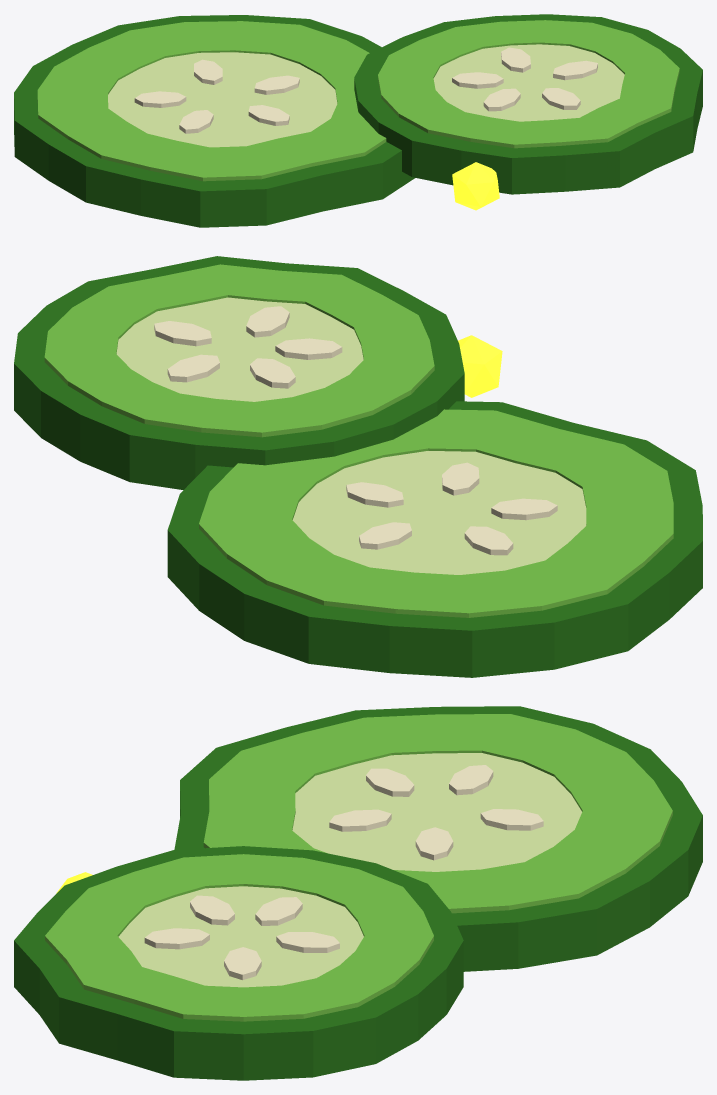
Rendered from Jalapeno.fbx.
The picture shows the model from 3 angles, top to bottom: view 1: azimuth 30°, elevation 25°; view 2: azimuth 150°, elevation 25°; view 3: azimuth 270°, elevation 25°; orthographic projection. The views are drawn at different scales.
Parts seen in each view (by area): view 1: Top_78C84A, Top_2E7A1E, Top_DCEFA8, Top_FFF6D2, Top_FF8A1A_Neon; view 2: Top_78C84A, Top_2E7A1E, Top_DCEFA8, Top_FFF6D2, Top_FF8A1A_Neon; view 3: Top_78C84A, Top_2E7A1E, Top_DCEFA8, Top_FFF6D2.
Part boxes in pixels (x1,y1,x2,y2): Top_78C84A: (37, 20, 679, 181); Top_2E7A1E: (14, 14, 702, 227); Top_DCEFA8: (108, 44, 624, 147); Top_FFF6D2: (134, 47, 597, 133); Top_FF8A1A_Neon: (452, 162, 499, 210); Top_78C84A: (44, 264, 673, 617); Top_2E7A1E: (14, 256, 702, 677); Top_DCEFA8: (116, 297, 586, 574); Top_FFF6D2: (154, 306, 557, 555); Top_FF8A1A_Neon: (458, 335, 502, 397); Top_78C84A: (45, 714, 672, 1021); Top_2E7A1E: (14, 706, 702, 1080); Top_DCEFA8: (118, 753, 581, 987); Top_FFF6D2: (144, 765, 543, 980).
Size of the model in its own units: 2 by 0.1977 by 1.68.
